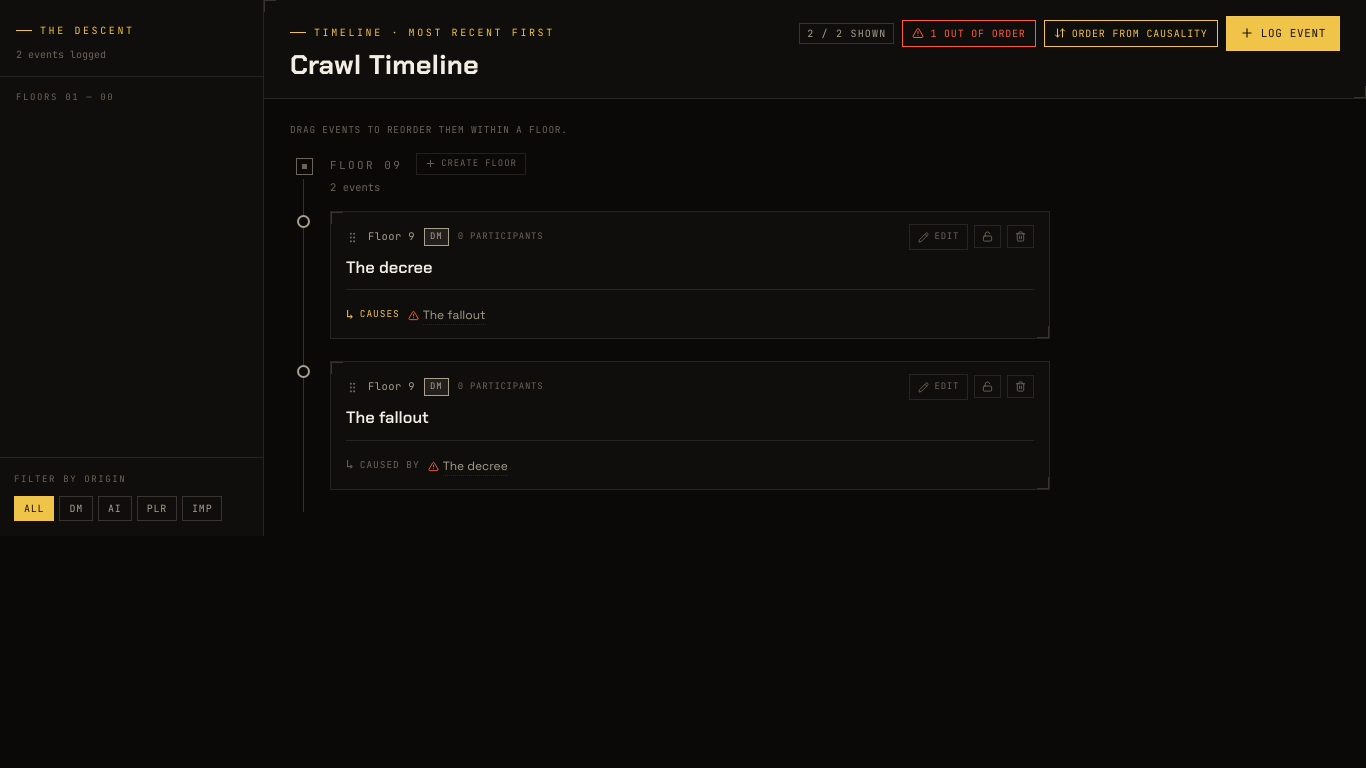
it: CampaignTimeline › surfaces the error and does not refresh when ordering fails
The image size is (1366, 768).
Click the button "Order from causality": (1131, 33) [1044,20,1218,47]
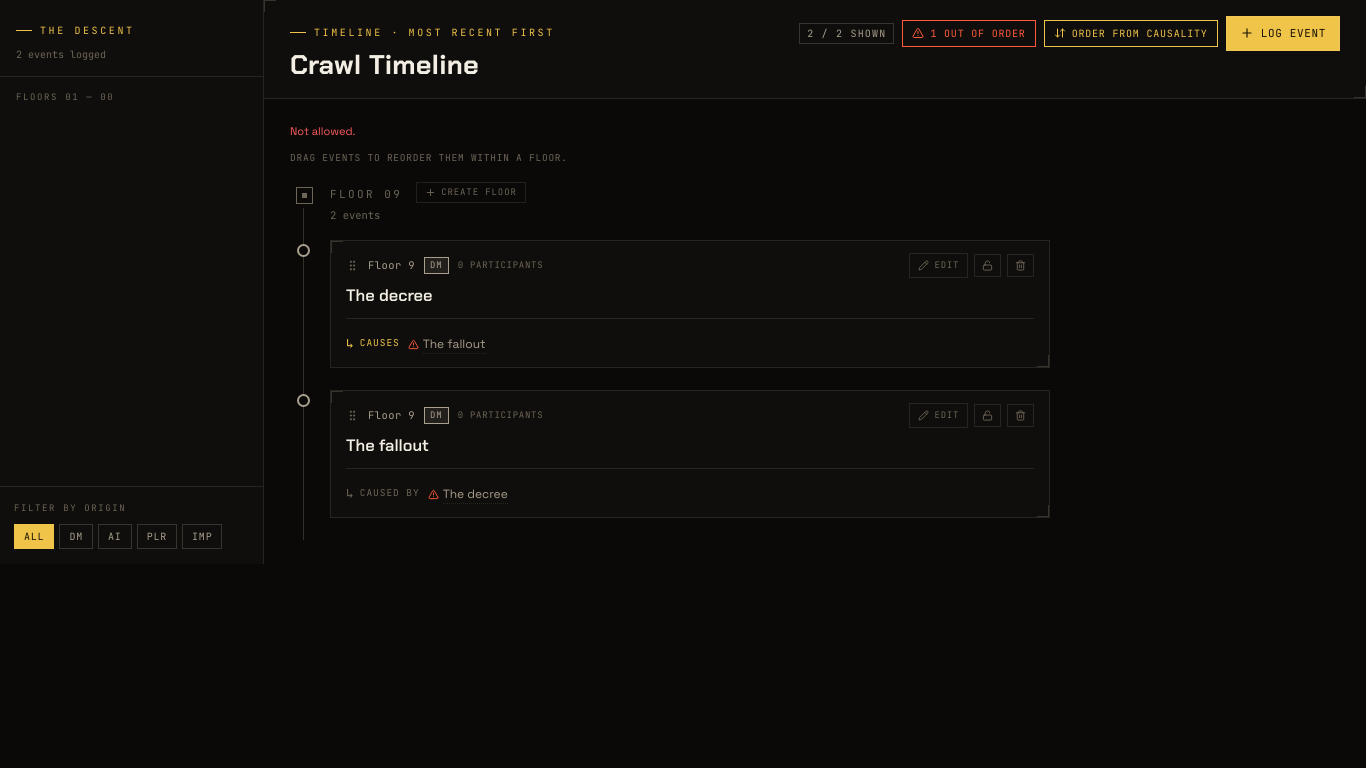
Now the text "Not allowed." is shown, box [290,124,355,138]
